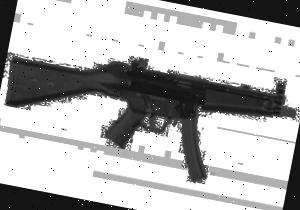SMG: (0, 31, 300, 198)
